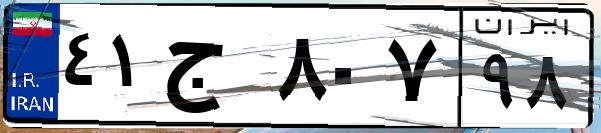0: (330, 28, 385, 110)
1: (110, 28, 158, 98)
4: (57, 26, 110, 100)
7: (385, 28, 445, 110)
8: (270, 28, 330, 110), (525, 38, 570, 115)
9: (475, 38, 525, 113)
ج: (158, 20, 270, 120)
